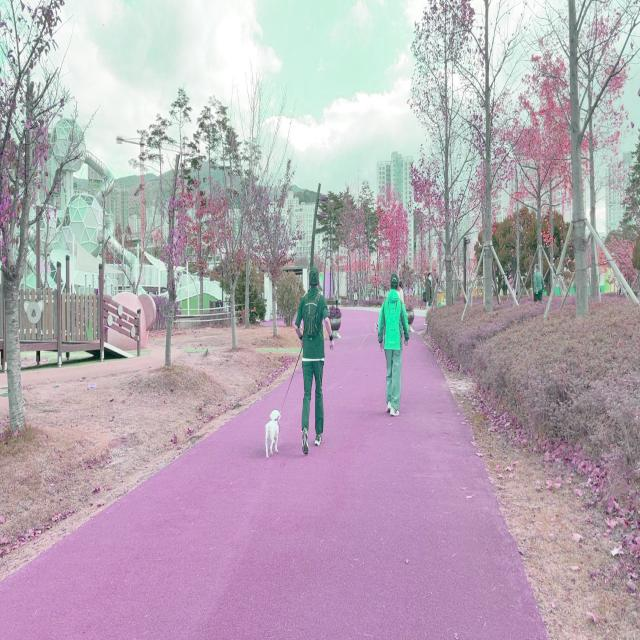Leashed_Dog: (265, 334, 309, 459)
